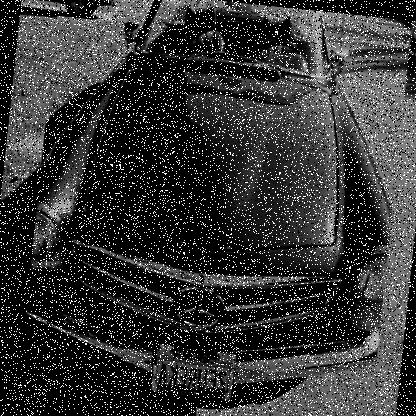Car: (17, 0, 413, 415), (20, 0, 118, 23), (381, 17, 415, 77)
